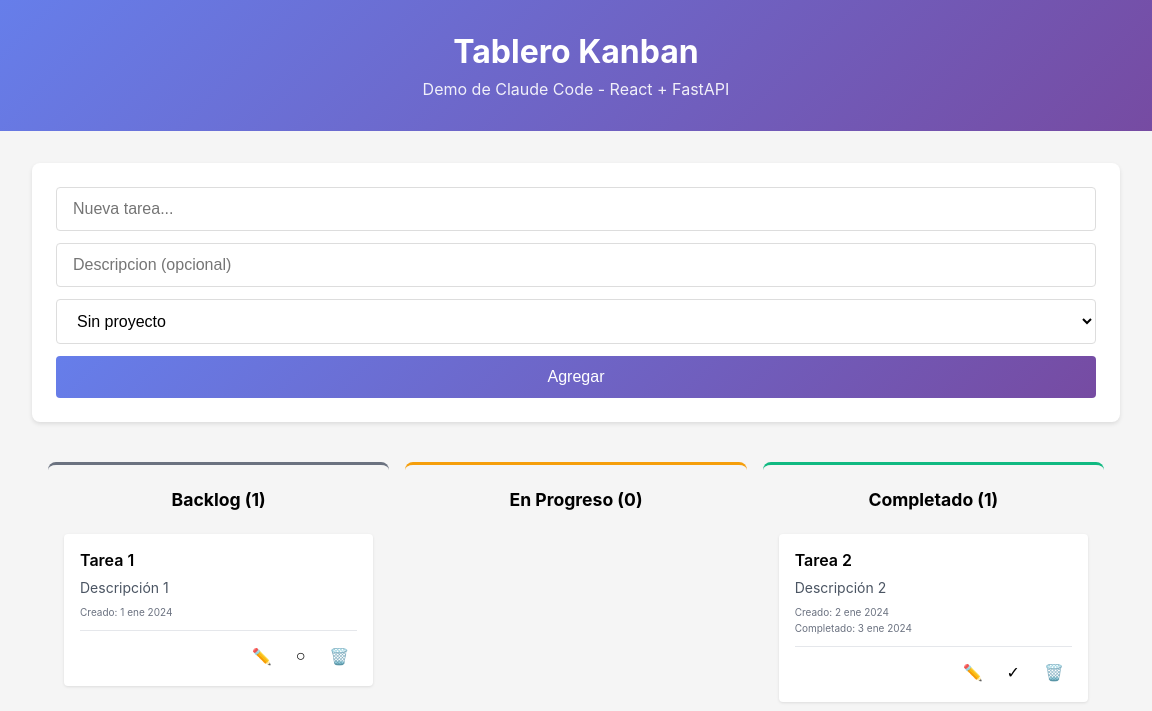
it: App › Toggle tarea › muestra error si falla el toggle
The width and height of the screenshot is (1152, 711).
expect the heading "Tarea 1" is shown: met, box top-left (80, 550), bottom-right (134, 570)
Click the button titled "Marcar como": (301, 656) top-left (288, 643), bottom-right (313, 670)
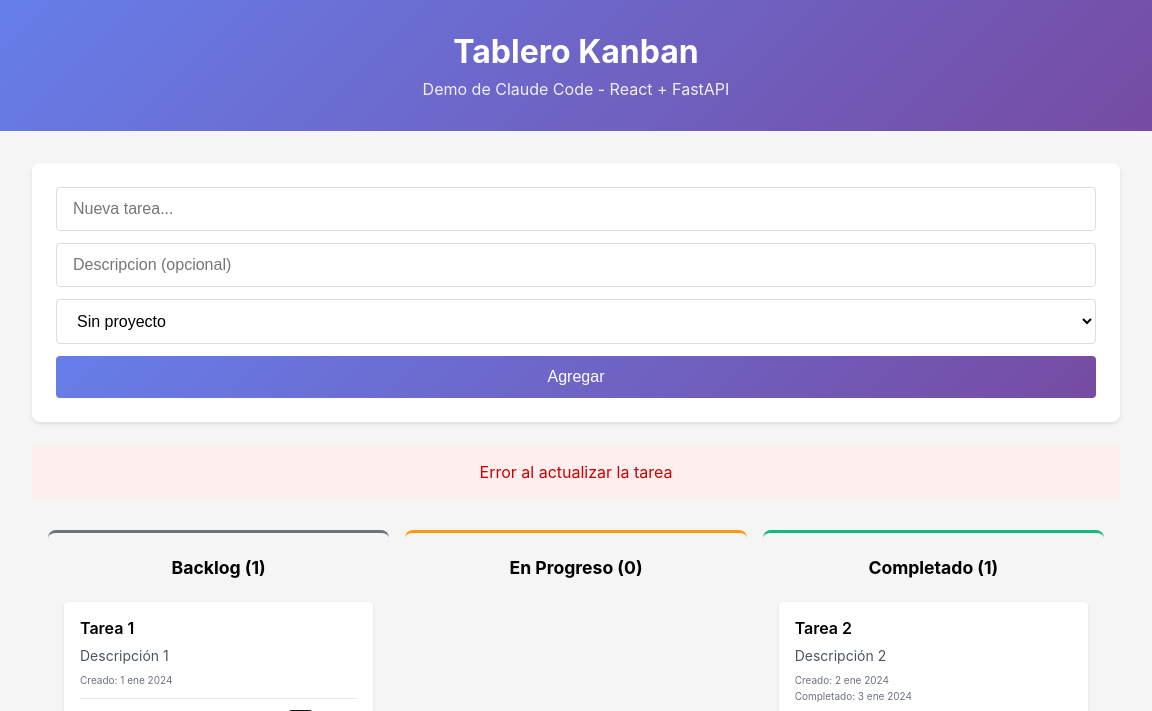
expect the text "Error al actualizar la tarea" is shown: met, box top-left (32, 446), bottom-right (1120, 498)
